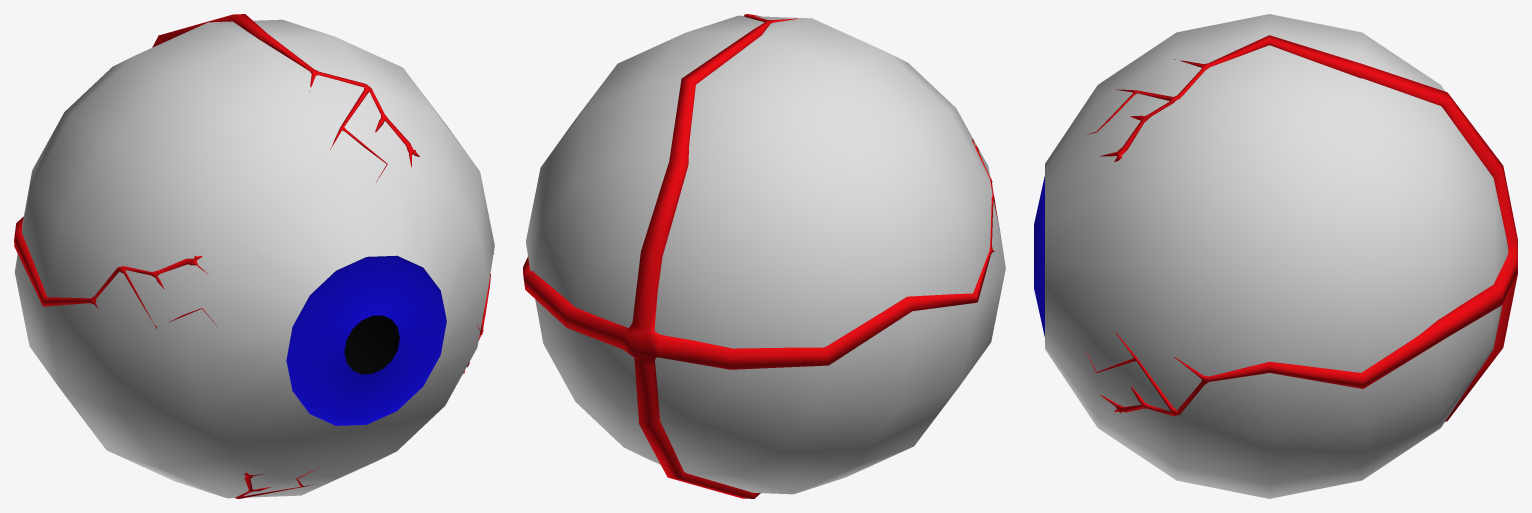
Rendered from cursorLook.fbx.
The picture shows the model from 3 angles, left to right: view 1: azimuth 30°, elevation 25°; view 2: azimuth 150°, elevation 25°; view 3: azimuth 270°, elevation 25°; orthographic projection.
Visible parts, largest first — view 1: cursorLook; view 2: cursorLook; view 3: cursorLook.
Boxes of the visible parts, x1,y1,x2,y2 form: cursorLook: (14,14,494,498); cursorLook: (523,14,1005,498); cursorLook: (1034,14,1517,498).
Size of the model in its own units: 0.7493 by 0.7493 by 0.7355.
